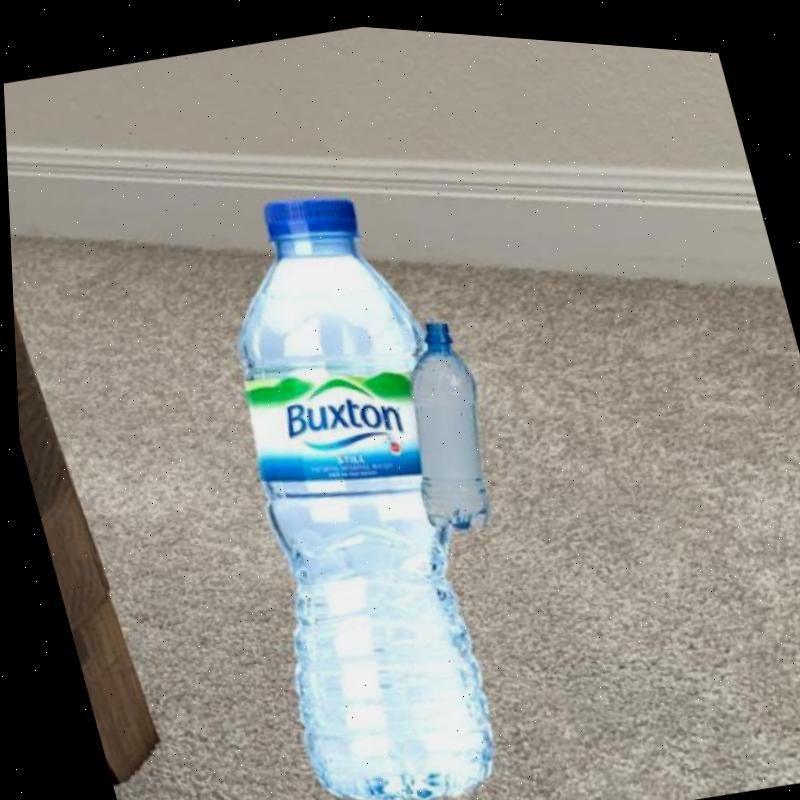botella: (153, 161, 541, 800), (372, 307, 507, 535)
